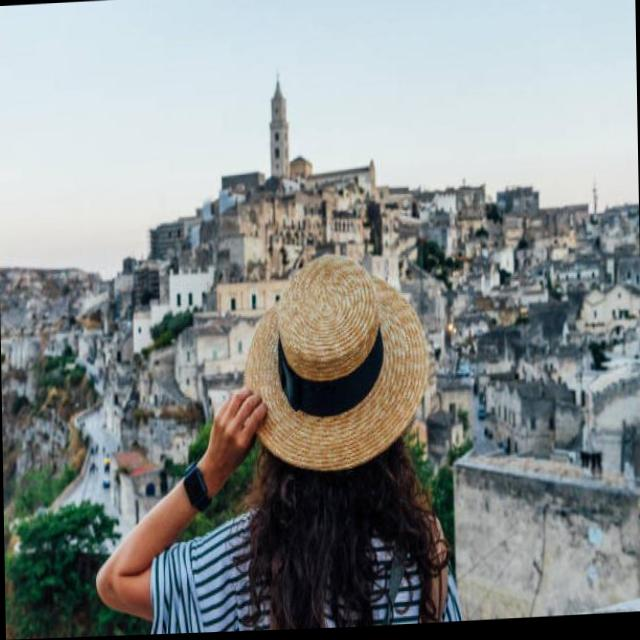no helmet: (238, 248, 429, 633)
